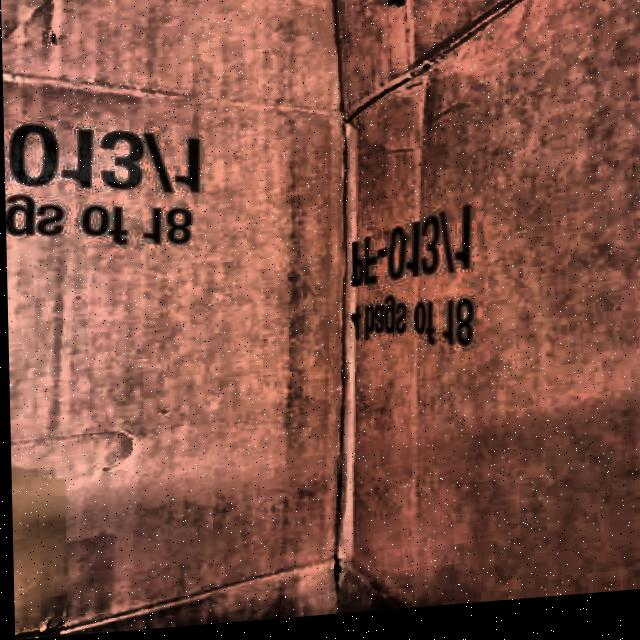cardboard: (0, 0, 356, 639)
